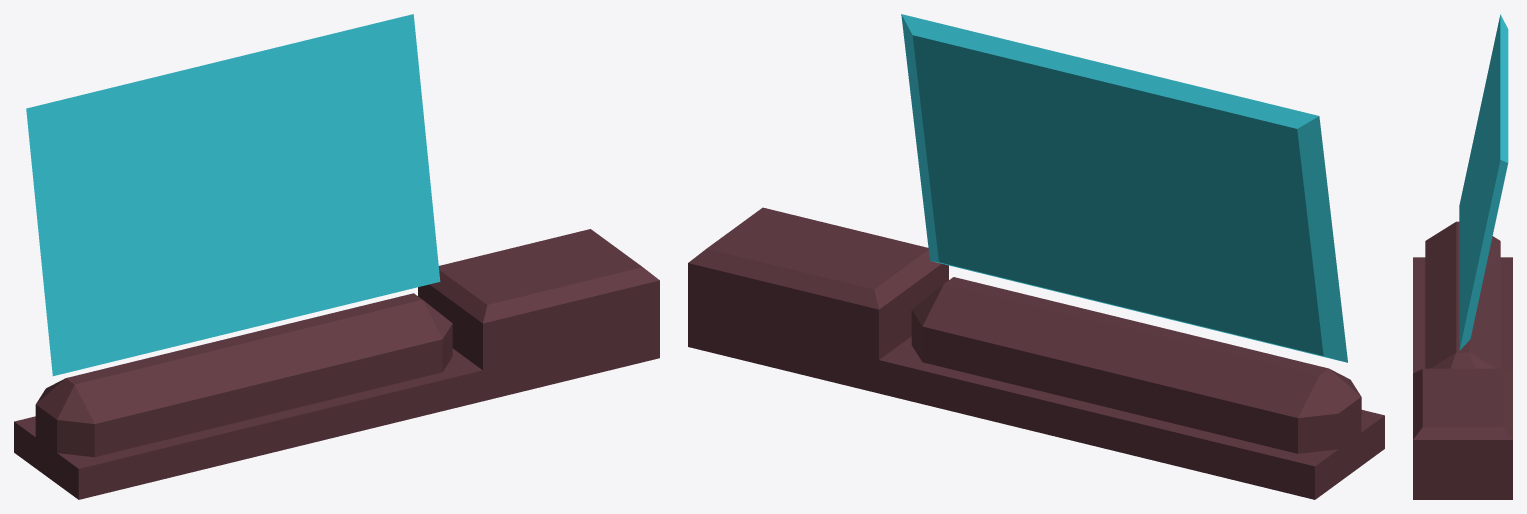
File: scifi-frame-digital-a.fbx
The picture shows the model from 3 angles, left to right: view 1: azimuth 30°, elevation 25°; view 2: azimuth 150°, elevation 25°; view 3: azimuth 270°, elevation 25°; orthographic projection. The views are drawn at different scales.
Visible parts, largest first — view 1: scifi-frame-digital-a; view 2: scifi-frame-digital-a; view 3: scifi-frame-digital-a.
Boxes of the visible parts, x1=… form: scifi-frame-digital-a: x1=14, y1=14, x2=659, y2=499; scifi-frame-digital-a: x1=688, y1=14, x2=1384, y2=499; scifi-frame-digital-a: x1=1413, y1=14, x2=1512, y2=499.
Bounding box in the file's own units: 0.45 × 0.2582 × 0.0868.
